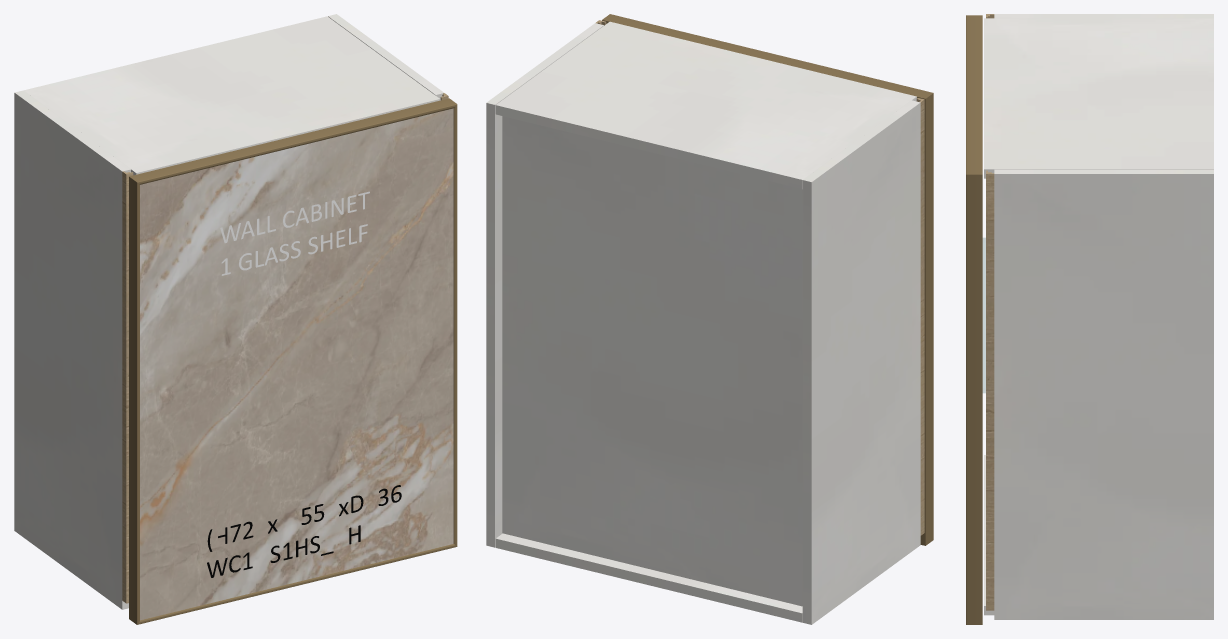
The model's file is WC-SH-NHX-ST-1SG-RHS-XXX-550-725-336-15.glb.
The picture shows the model from 3 angles, left to right: view 1: azimuth 30°, elevation 25°; view 2: azimuth 150°, elevation 25°; view 3: azimuth 270°, elevation 25°; orthographic projection.
Visible parts, largest first — view 1: Object_node_4, TP_node_0, TP, Extrusion_node_1, Extrusion, Object_node_6, Extrusion_node, 2D text_node, Extrusion_node_0, TP_node_1, 2D text_node_0, 2D text; view 2: TP_node_2, TP_node_0, TP, TP_node_1, TP_node, Extrusion_node_1, Extrusion, Object_node_6; view 3: TP_node_1, TP, Extrusion_node, Object_node_14, Extrusion, TP_node_0, Object_node_1, TP_node.
Boxes of the visible parts, left/top/right/bottom form: Object_node_4: left=140, top=108, right=453, bottom=620; TP_node_0: left=14, top=90, right=130, bottom=609; TP: left=23, top=16, right=440, bottom=175; Extrusion_node_1: left=129, top=177, right=139, bottom=624; Extrusion: left=129, top=98, right=457, bottom=184; Object_node_6: left=122, top=171, right=133, bottom=603; Extrusion_node: left=453, top=105, right=457, bottom=546; 2D text_node: left=220, top=191, right=369, bottom=275; Extrusion_node_0: left=137, top=544, right=456, bottom=624; TP_node_1: left=328, top=14, right=443, bottom=100; 2D text_node_0: left=207, top=485, right=401, bottom=551; 2D text: left=207, top=525, right=360, bottom=577; TP_node_2: left=502, top=116, right=802, bottom=606; TP_node_0: left=802, top=100, right=920, bottom=624; TP: left=495, top=21, right=916, bottom=189; TP_node_1: left=486, top=23, right=603, bottom=547; TP_node: left=495, top=533, right=802, bottom=622; Extrusion_node_1: left=920, top=93, right=933, bottom=545; Extrusion: left=602, top=14, right=932, bottom=99; Object_node_6: left=916, top=98, right=924, bottom=535; TP_node_1: left=994, top=169, right=1213, bottom=619; TP: left=984, top=18, right=1213, bottom=178; Extrusion_node: left=966, top=174, right=982, bottom=624; Object_node_14: left=986, top=170, right=994, bottom=610; Extrusion: left=966, top=15, right=982, bottom=174; TP_node_0: left=994, top=14, right=1213, bottom=18; Object_node_1: left=983, top=238, right=985, bottom=392; TP_node: left=984, top=455, right=994, bottom=615.
Size of what is drawn, in the model's own units: 0.55 by 0.7235 by 0.366.
Materials: 7 (3 with a texture image).
